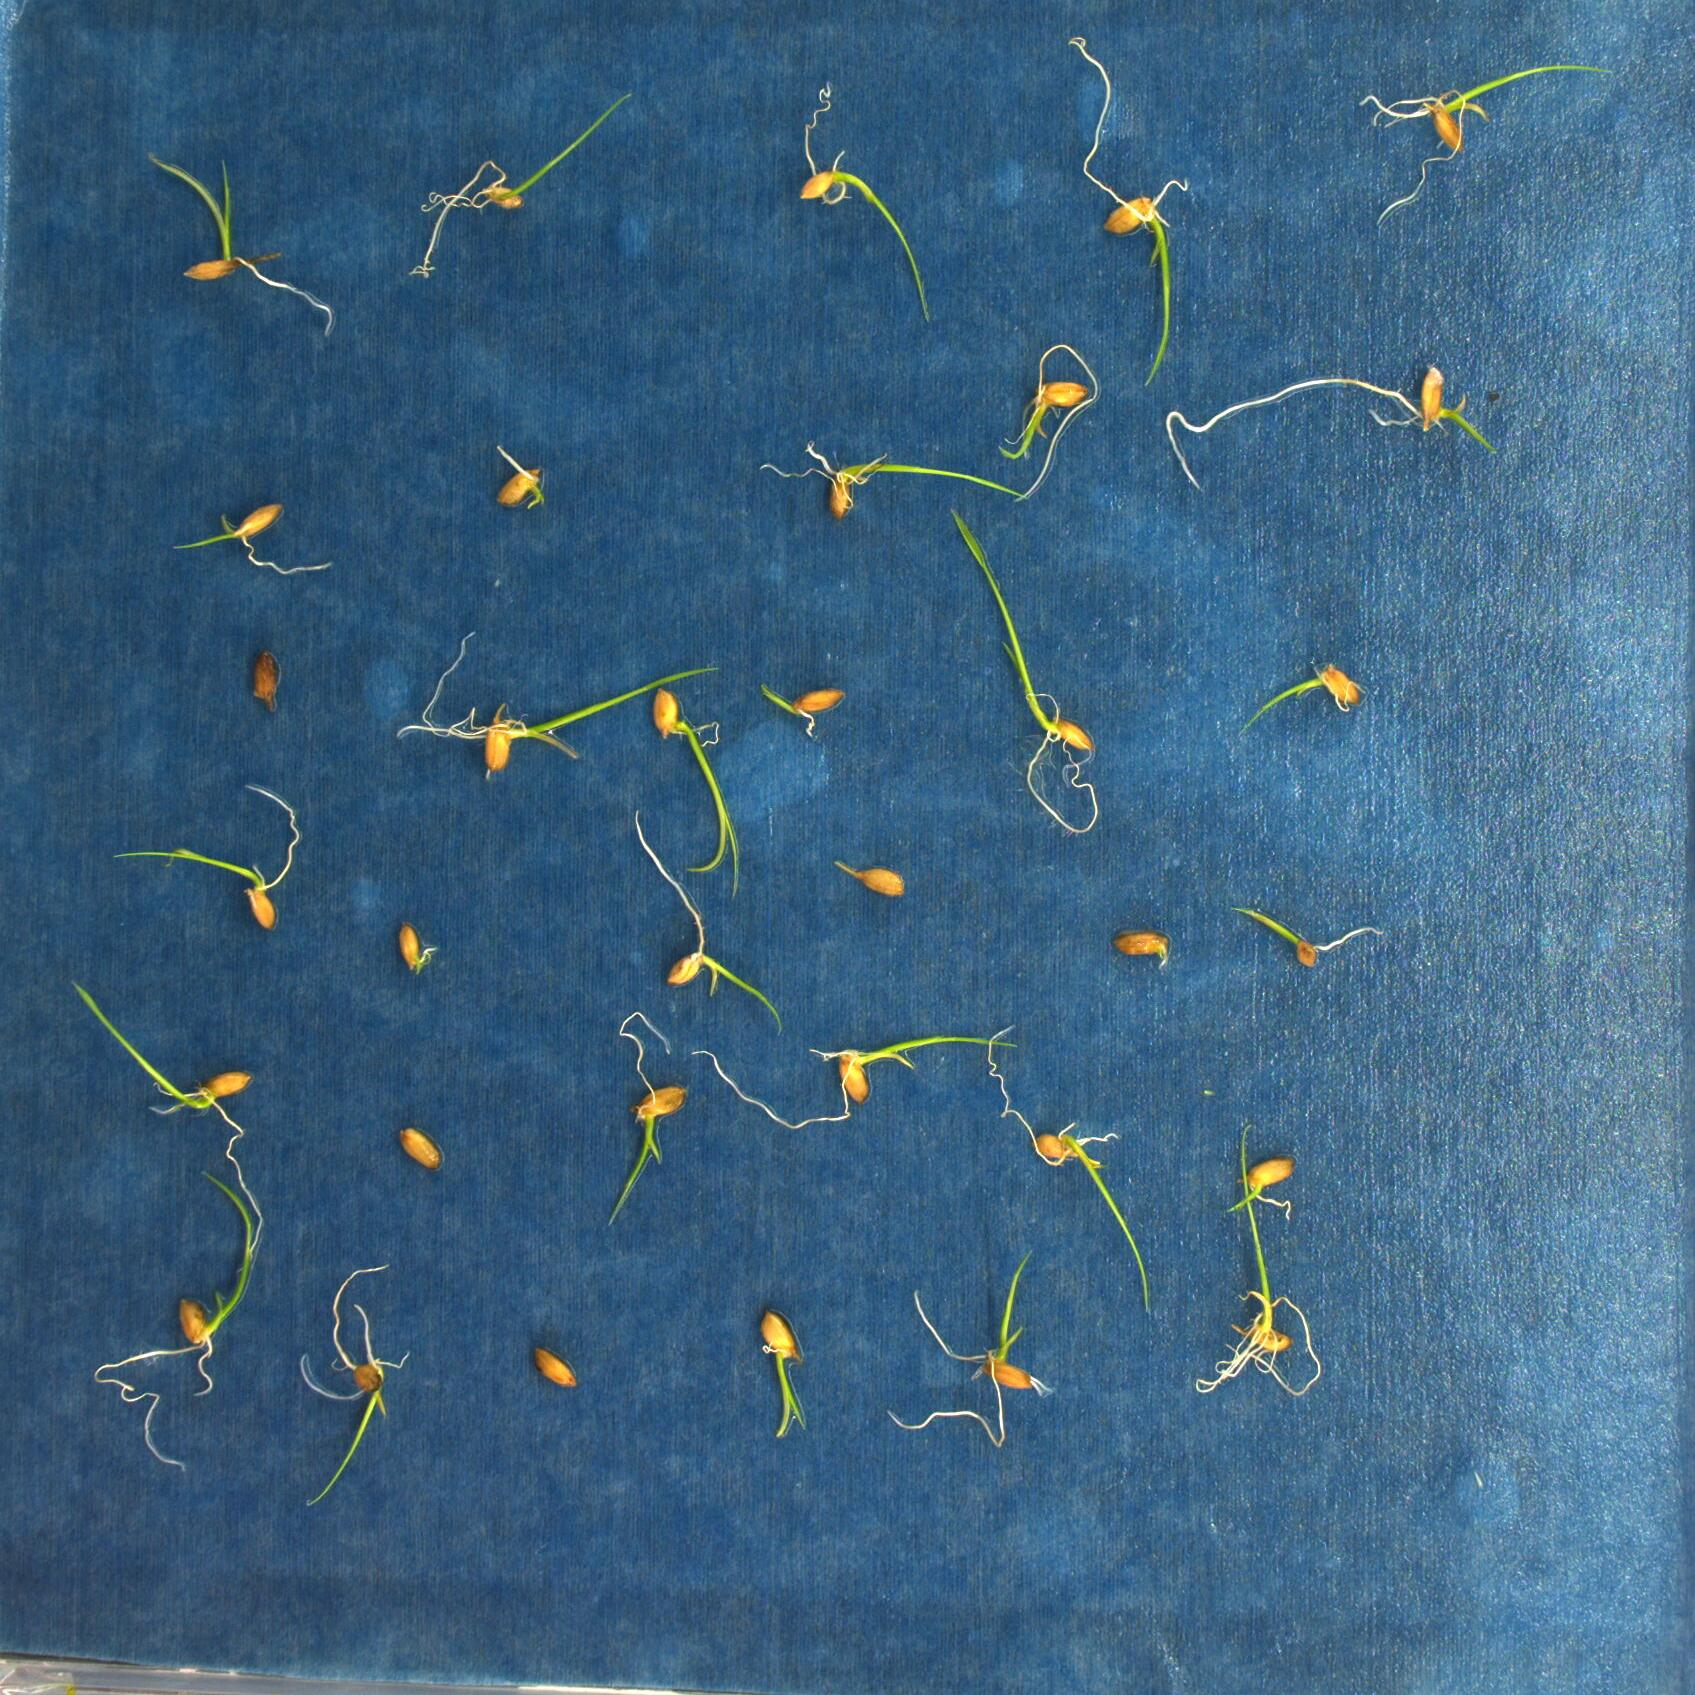not sprout: (834, 857, 910, 900), (1111, 927, 1175, 972), (399, 1122, 442, 1175), (531, 1347, 581, 1392), (251, 649, 284, 716), (399, 920, 433, 976)
sprout: (65, 976, 265, 1271), (983, 1021, 1159, 1319), (396, 624, 723, 781), (92, 1164, 258, 1470), (948, 504, 1099, 832), (1367, 57, 1620, 236), (408, 87, 643, 278), (1166, 365, 1509, 487), (1062, 33, 1177, 390), (629, 807, 789, 1035), (140, 149, 335, 334), (1195, 1121, 1321, 1392), (885, 1243, 1049, 1445), (798, 81, 931, 328), (689, 1034, 1024, 1132), (109, 781, 301, 936), (303, 1260, 411, 1515), (652, 688, 747, 896), (607, 1010, 691, 1229), (757, 449, 1037, 512), (1000, 341, 1101, 504), (172, 500, 337, 574), (1236, 660, 1364, 740), (1232, 903, 1391, 969), (757, 1305, 812, 1444), (759, 680, 844, 740), (1225, 1156, 1299, 1215), (494, 439, 548, 511)
